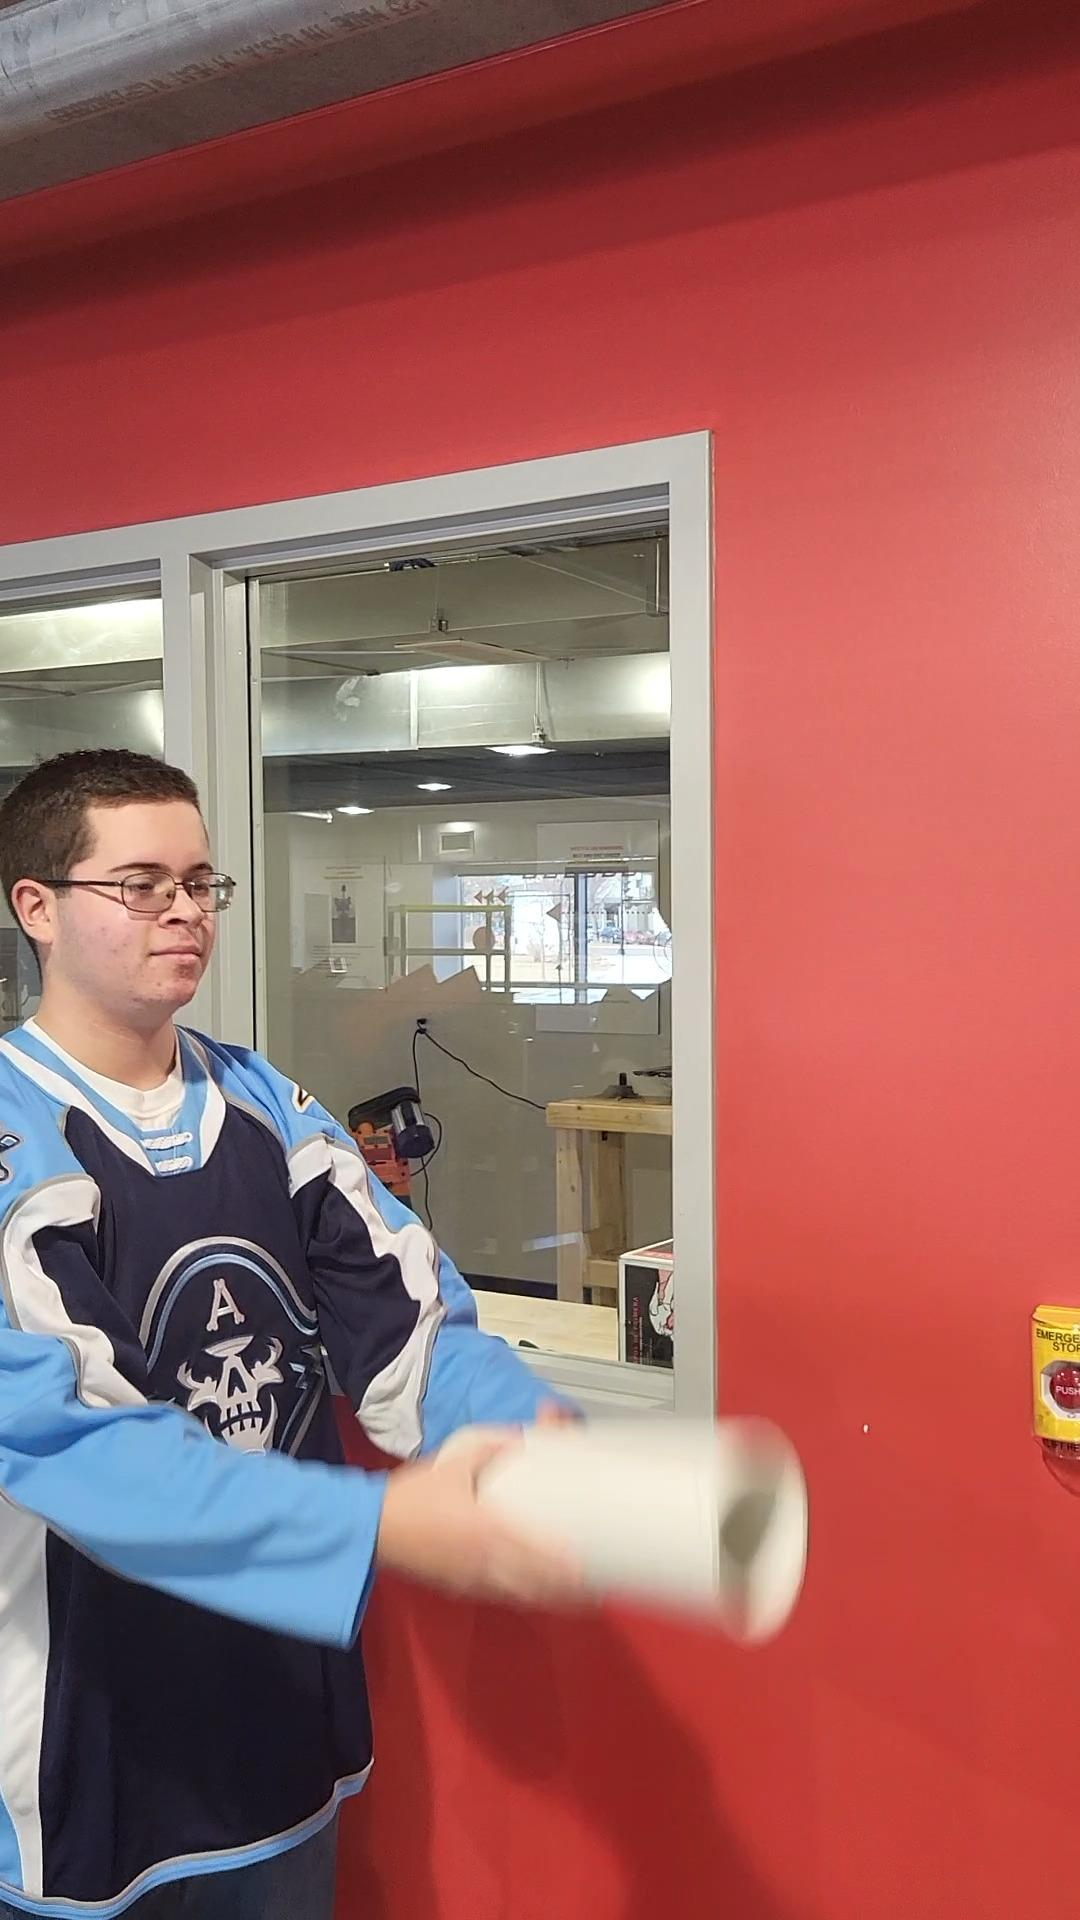coral: (423, 1408, 816, 1647)
